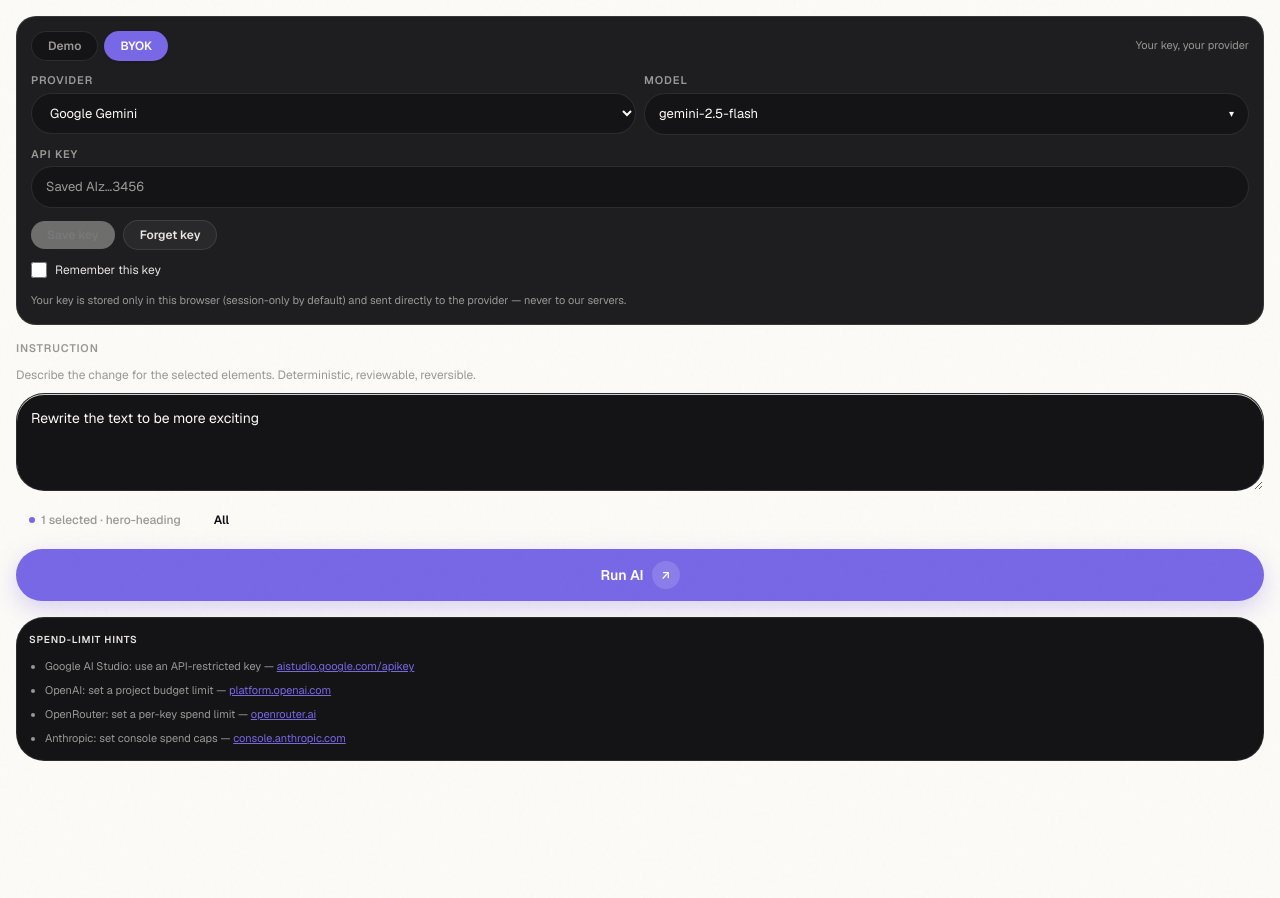
it: AiPanel BYOK mode › routes BYOK mode through the provider and surfaces proposals
This screenshot has width=1280, height=898.
Click the button "Run AI ↗": click(640, 575) x1=16 y1=549 x2=1264 y2=601
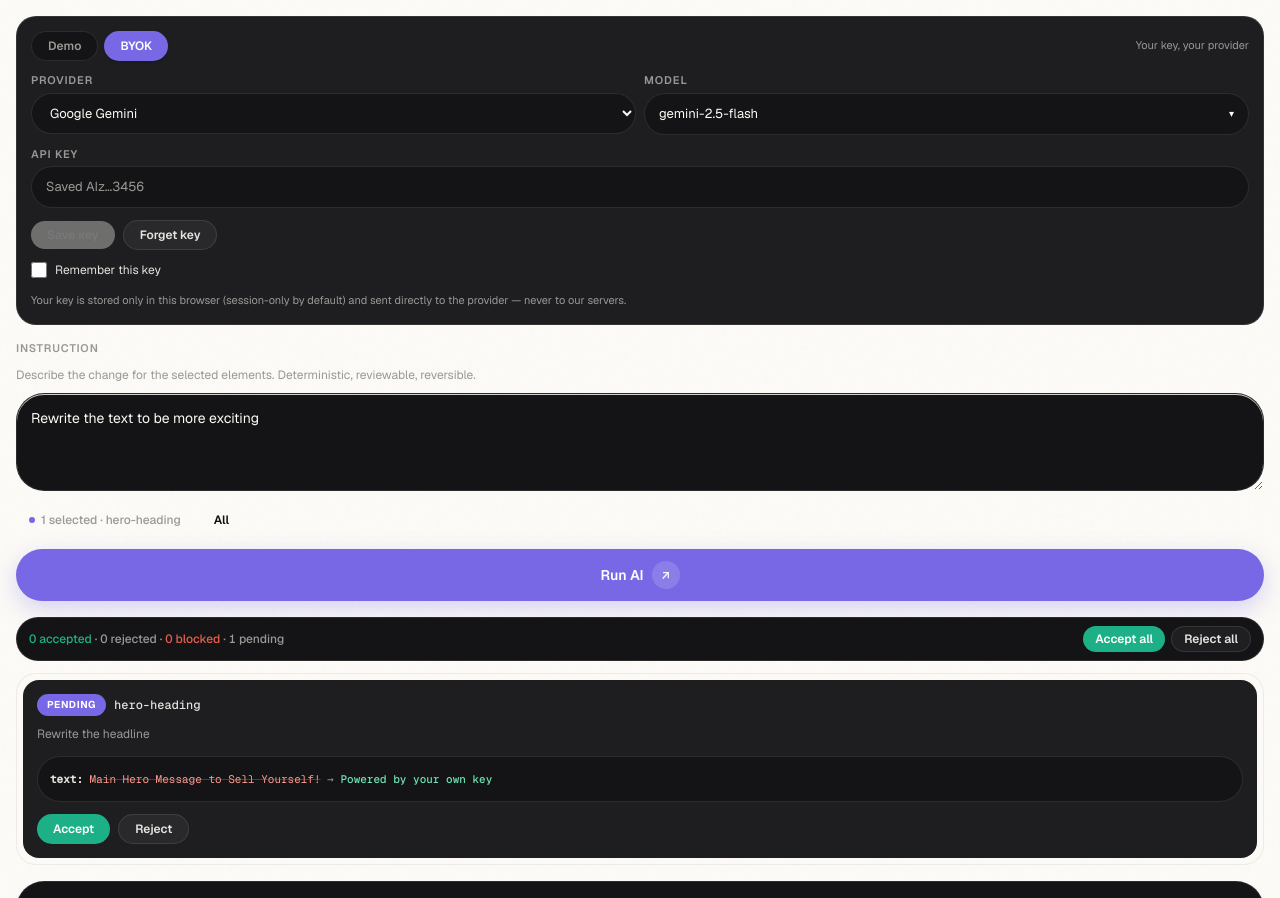
Expected: the text "Powered by your own key" is shown, x1=340 y1=772 x2=492 y2=786
Expected: the text "hero-heading" is shown, x1=114 y1=697 x2=200 y2=713
